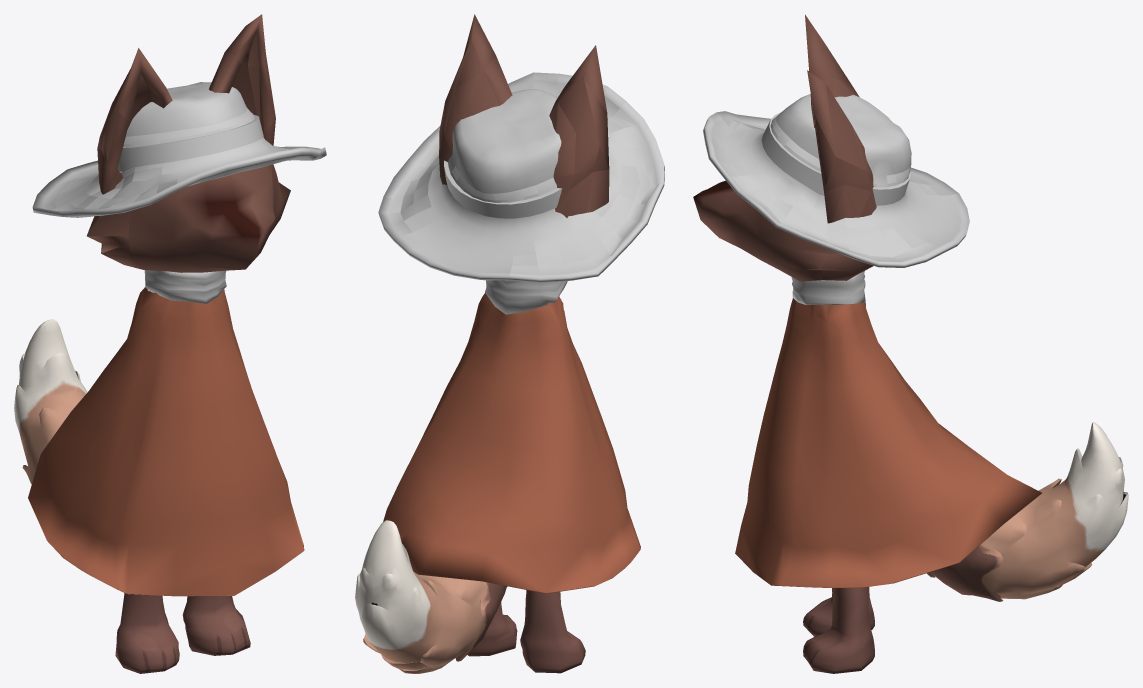
File: 3D FOX.fbx
3 renders of one model, left to right at view 1: azimuth 30°, elevation 25°; view 2: azimuth 150°, elevation 25°; view 3: azimuth 270°, elevation 25°, orthographic. The views are drawn at different scales.
Parts seen in each view (by area): view 1: Plane.002, fox, straw hat, Plane, tailfox, Plane.001; view 2: Plane.002, straw hat, tailfox, fox, Plane, Plane.001; view 3: Plane.002, straw hat, tailfox, fox, Plane, Plane.001.
Boxes of the visible parts, x1=… form: Plane.002: x1=28, y1=287, x2=304, y2=596; fox: x1=87, y1=14, x2=290, y2=272; straw hat: x1=32, y1=82, x2=326, y2=217; Plane: x1=115, y1=593, x2=250, y2=673; tailfox: x1=14, y1=319, x2=87, y2=484; Plane.001: x1=144, y1=270, x2=226, y2=303; Plane.002: x1=383, y1=290, x2=640, y2=593; straw hat: x1=378, y1=72, x2=664, y2=282; tailfox: x1=355, y1=520, x2=507, y2=673; fox: x1=439, y1=14, x2=609, y2=217; Plane: x1=467, y1=590, x2=585, y2=673; Plane.001: x1=485, y1=280, x2=567, y2=314; Plane.002: x1=735, y1=298, x2=1041, y2=587; straw hat: x1=703, y1=94, x2=969, y2=267; tailfox: x1=927, y1=422, x2=1128, y2=601; fox: x1=693, y1=14, x2=876, y2=281; Plane: x1=803, y1=587, x2=874, y2=673; Plane.001: x1=791, y1=271, x2=865, y2=304.
Bounding box in the file's own units: 183 × 445 × 291.
